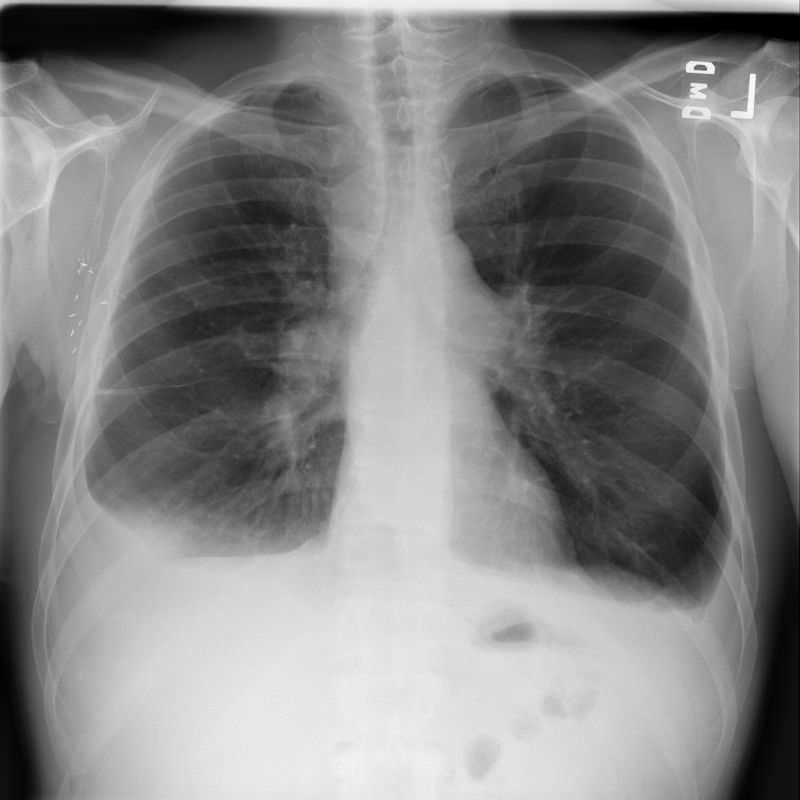PLEURAL EFFUSION: (40, 460, 175, 698), (678, 560, 754, 692)
